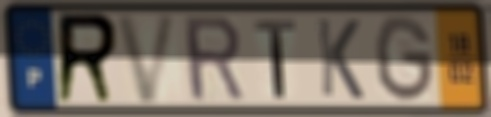G: (372, 12, 437, 105)
K: (314, 15, 367, 103)
R: (53, 10, 121, 108), (180, 13, 248, 105)
T: (252, 17, 298, 101)
V: (112, 11, 182, 107)
